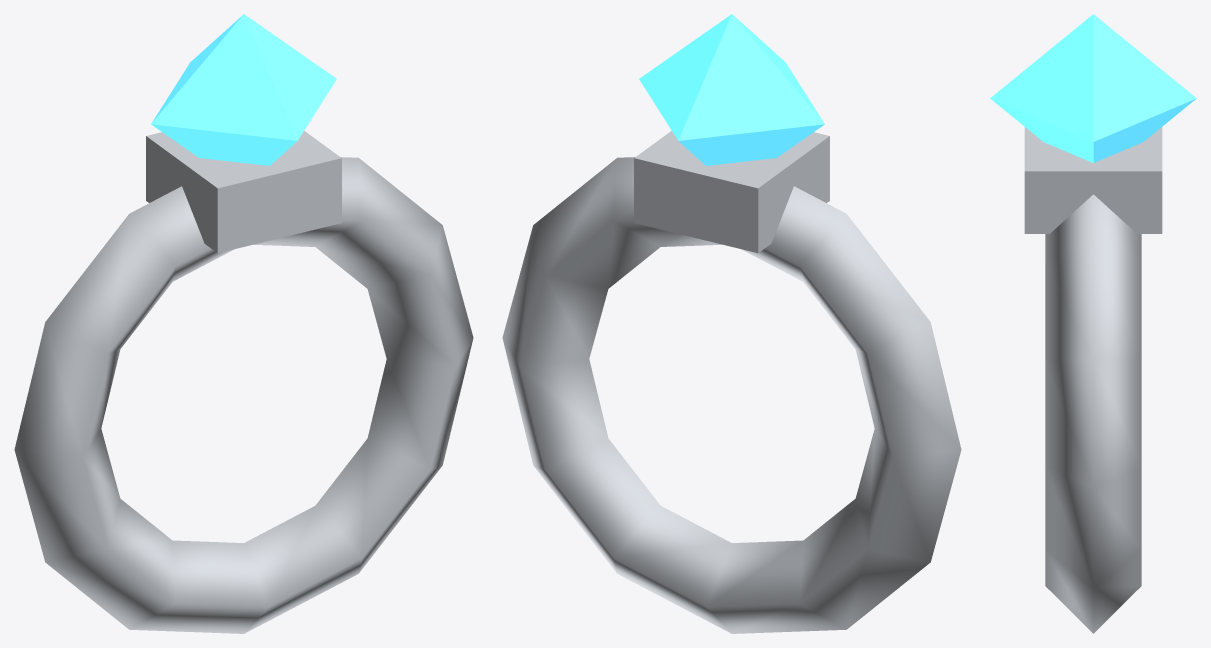
The model's file is ring_t2.glb.
3 views of the same model, side by side, from view 1: azimuth 30°, elevation 25°; view 2: azimuth 150°, elevation 25°; view 3: azimuth 270°, elevation 25° (orthographic). The views are drawn at different scales.
Visible parts, largest first — view 1: item_ringBand2, item_ringGem2; view 2: item_ringBand2, item_ringGem2; view 3: item_ringBand2, item_ringGem2.
Boxes of the visible parts, x1,y1,x2,y2 form: item_ringBand2: [14, 130, 473, 633]; item_ringGem2: [151, 14, 336, 165]; item_ringBand2: [502, 130, 961, 633]; item_ringGem2: [639, 14, 824, 165]; item_ringBand2: [1024, 127, 1162, 633]; item_ringGem2: [990, 14, 1196, 162].
Bounding box in the file's own units: 0.2072 × 0.2674 × 0.084.
